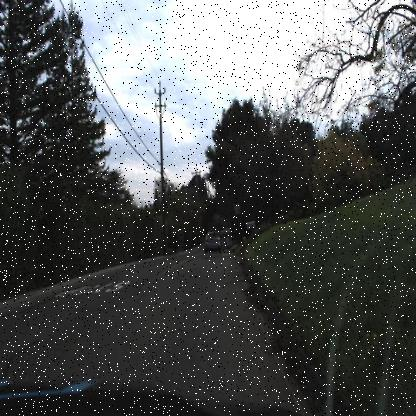car: (203, 228, 224, 257)
